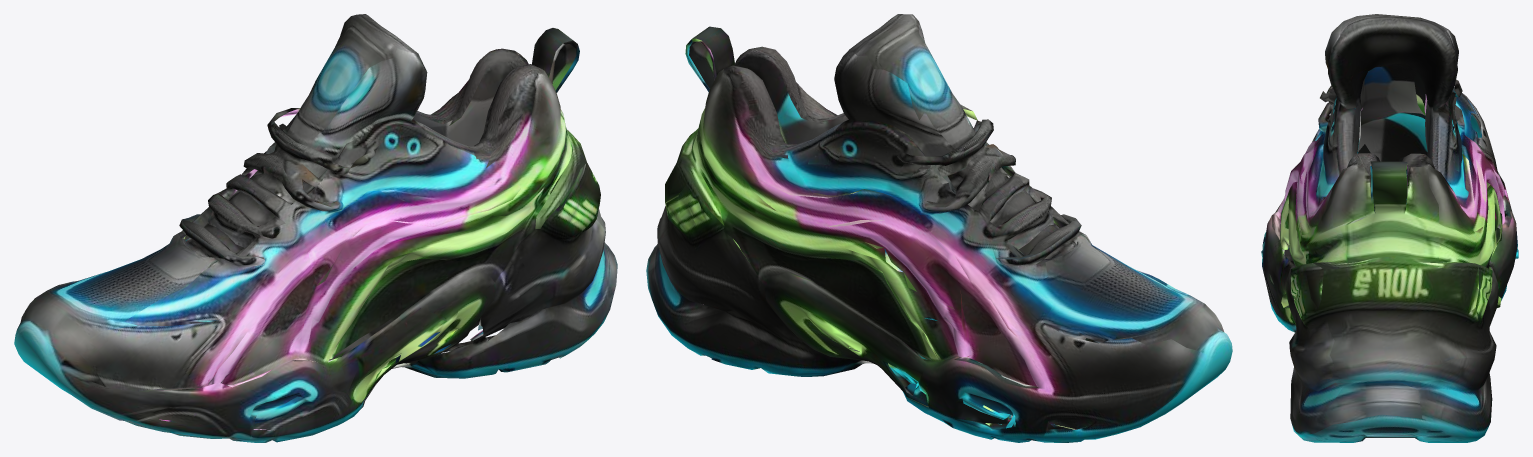
Rendered from street-low-lod.glb.
3 views of the same model, side by side, from view 1: azimuth 30°, elevation 25°; view 2: azimuth 150°, elevation 25°; view 3: azimuth 270°, elevation 25° (orthographic). The views are drawn at different scales.
Visible parts, largest first — view 1: Shoe; view 2: Shoe; view 3: Shoe.
Boxes of the visible parts, x1=… form: Shoe: x1=14, y1=14, x2=617, y2=442; Shoe: x1=646, y1=14, x2=1232, y2=442; Shoe: x1=1261, y1=14, x2=1518, y2=442.
Size of the model in its own units: 0.5274 by 0.3 by 0.199.
1 material, 1 textured.
